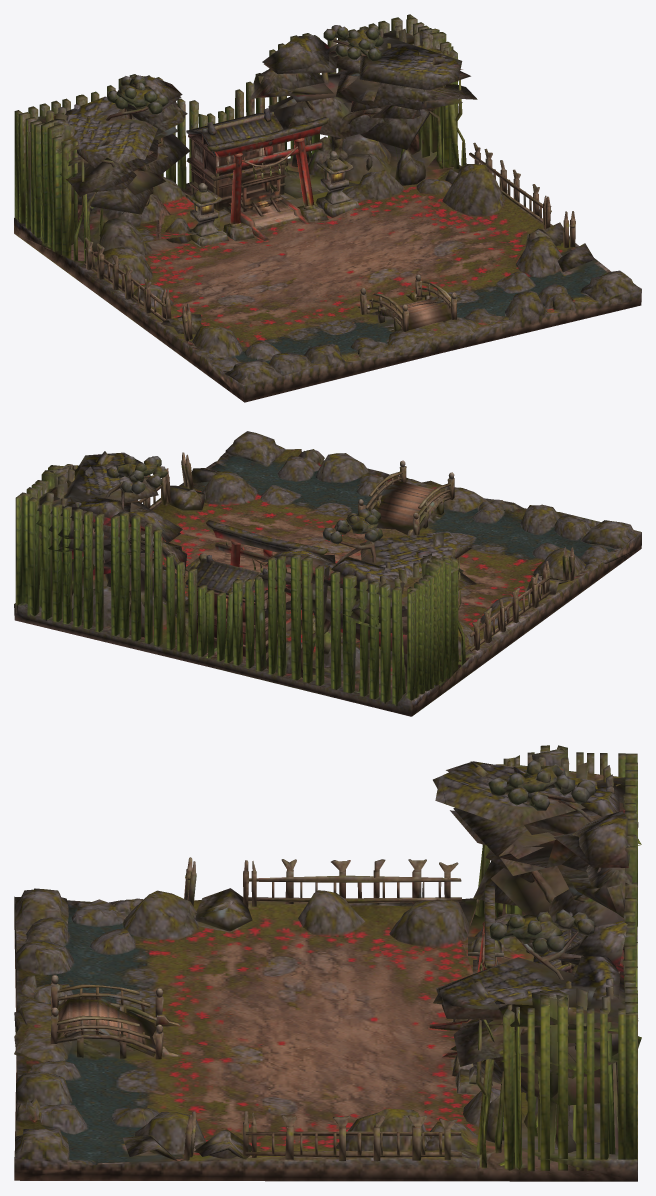
File: ForestShrine.fbx
3 views of the same model, one above another, from view 1: azimuth 30°, elevation 25°; view 2: azimuth 150°, elevation 25°; view 3: azimuth 270°, elevation 25° (orthographic). The views are drawn at different scales.
Visible parts, largest first — view 1: Mesh_0; view 2: Mesh_0; view 3: Mesh_0.
Boxes of the visible parts, x1,y1,x2,y2 form: Mesh_0: [14, 14, 641, 402]; Mesh_0: [14, 431, 641, 716]; Mesh_0: [14, 745, 641, 1181].
Bounding box in the file's own units: 95.46 × 36.08 × 96.
Materials: 1 (1 with a texture image).
